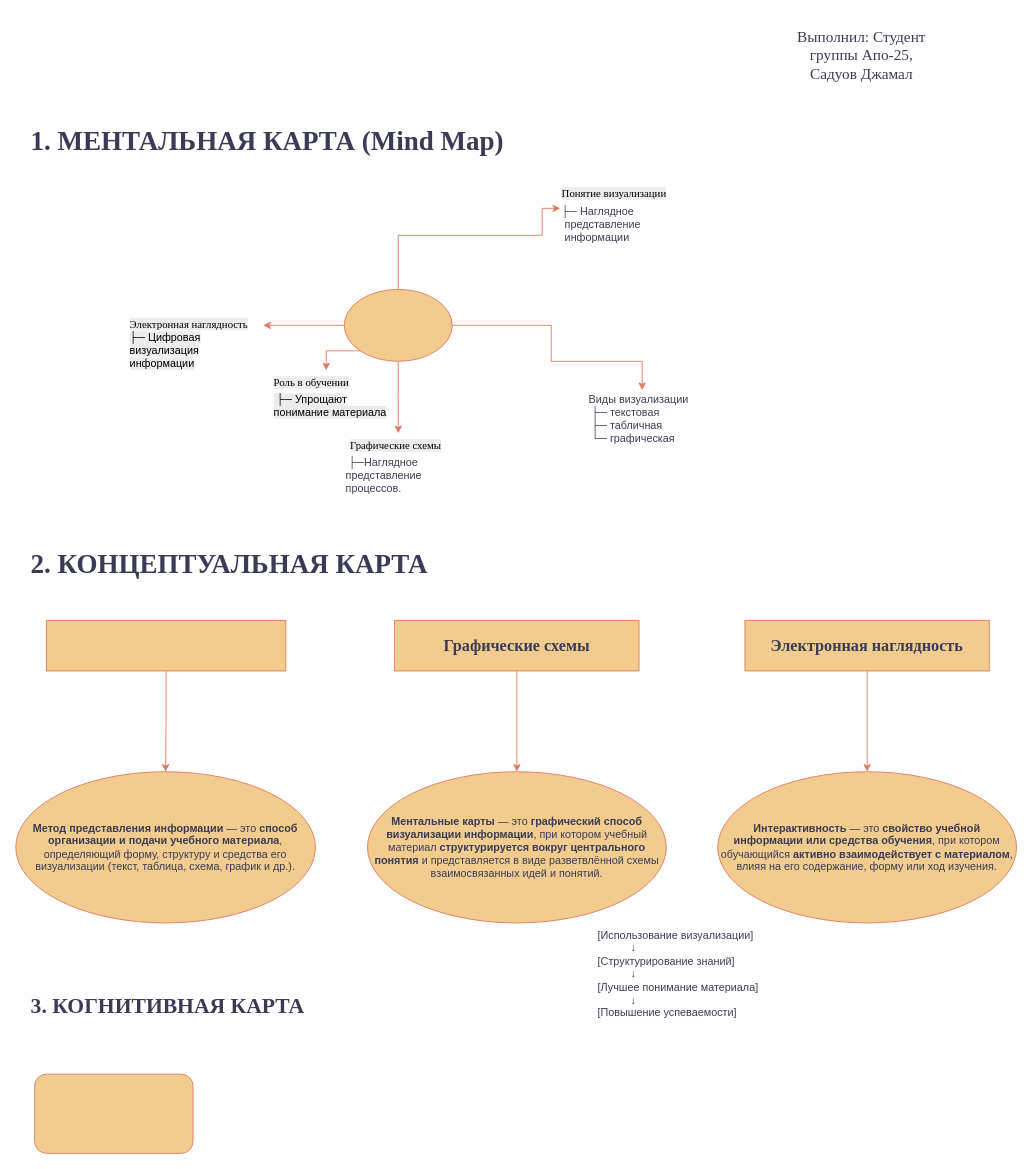
Some shapes in this 1032 by 1169 pixel diagram are drawn without their labels. Each missing label, with the centre of its shape:
"Визуализация" belongs at (165,645).
"Визуализация учебной информации" belongs at (397,324).
